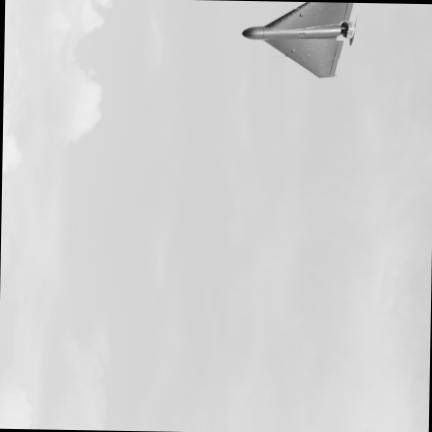Shahed: (241, 2, 355, 77)
